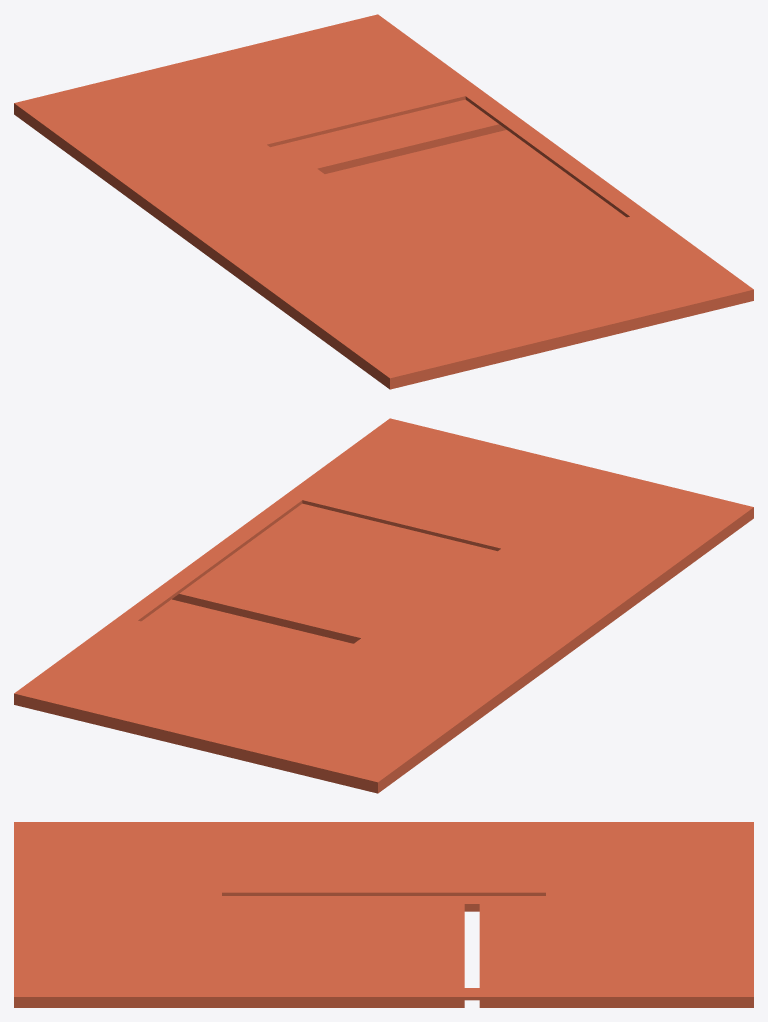
The picture shows the model from 3 angles, top to bottom: view 1: azimuth 30°, elevation 25°; view 2: azimuth 150°, elevation 25°; view 3: azimuth 270°, elevation 25°; orthographic projection.
Parts seen in each view (by area): view 1: Plastic for Gps; view 2: Plastic for Gps; view 3: Plastic for Gps.
Boxes of the visible parts, <box> form: Plastic for Gps: <box>14,14,753,389</box>; Plastic for Gps: <box>14,418,753,793</box>; Plastic for Gps: <box>14,822,753,1007</box>.
Size of the model in its own units: 0.0549 by 0.00163 by 0.0982.
